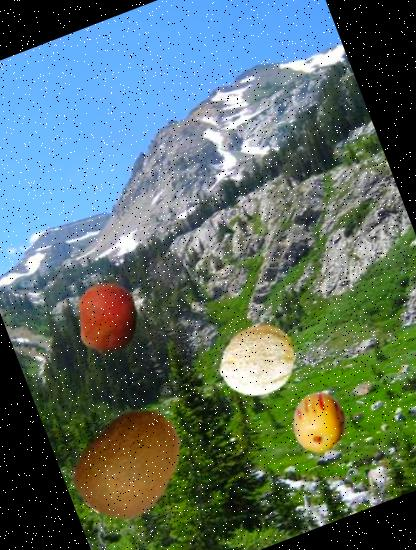Cantaloupe: (206, 310, 308, 412)
Kiwi: (54, 388, 206, 540)
Peach: (62, 272, 154, 364)
Pepino: (280, 385, 355, 460)
